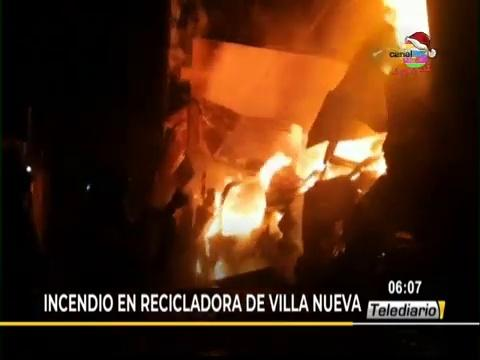fire: (209, 177, 271, 238), (335, 138, 386, 172), (388, 3, 427, 33)
